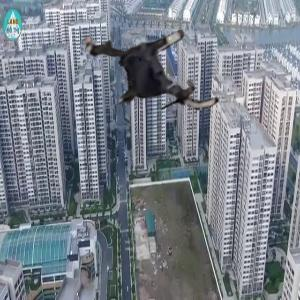drone: (79, 1, 222, 144)
